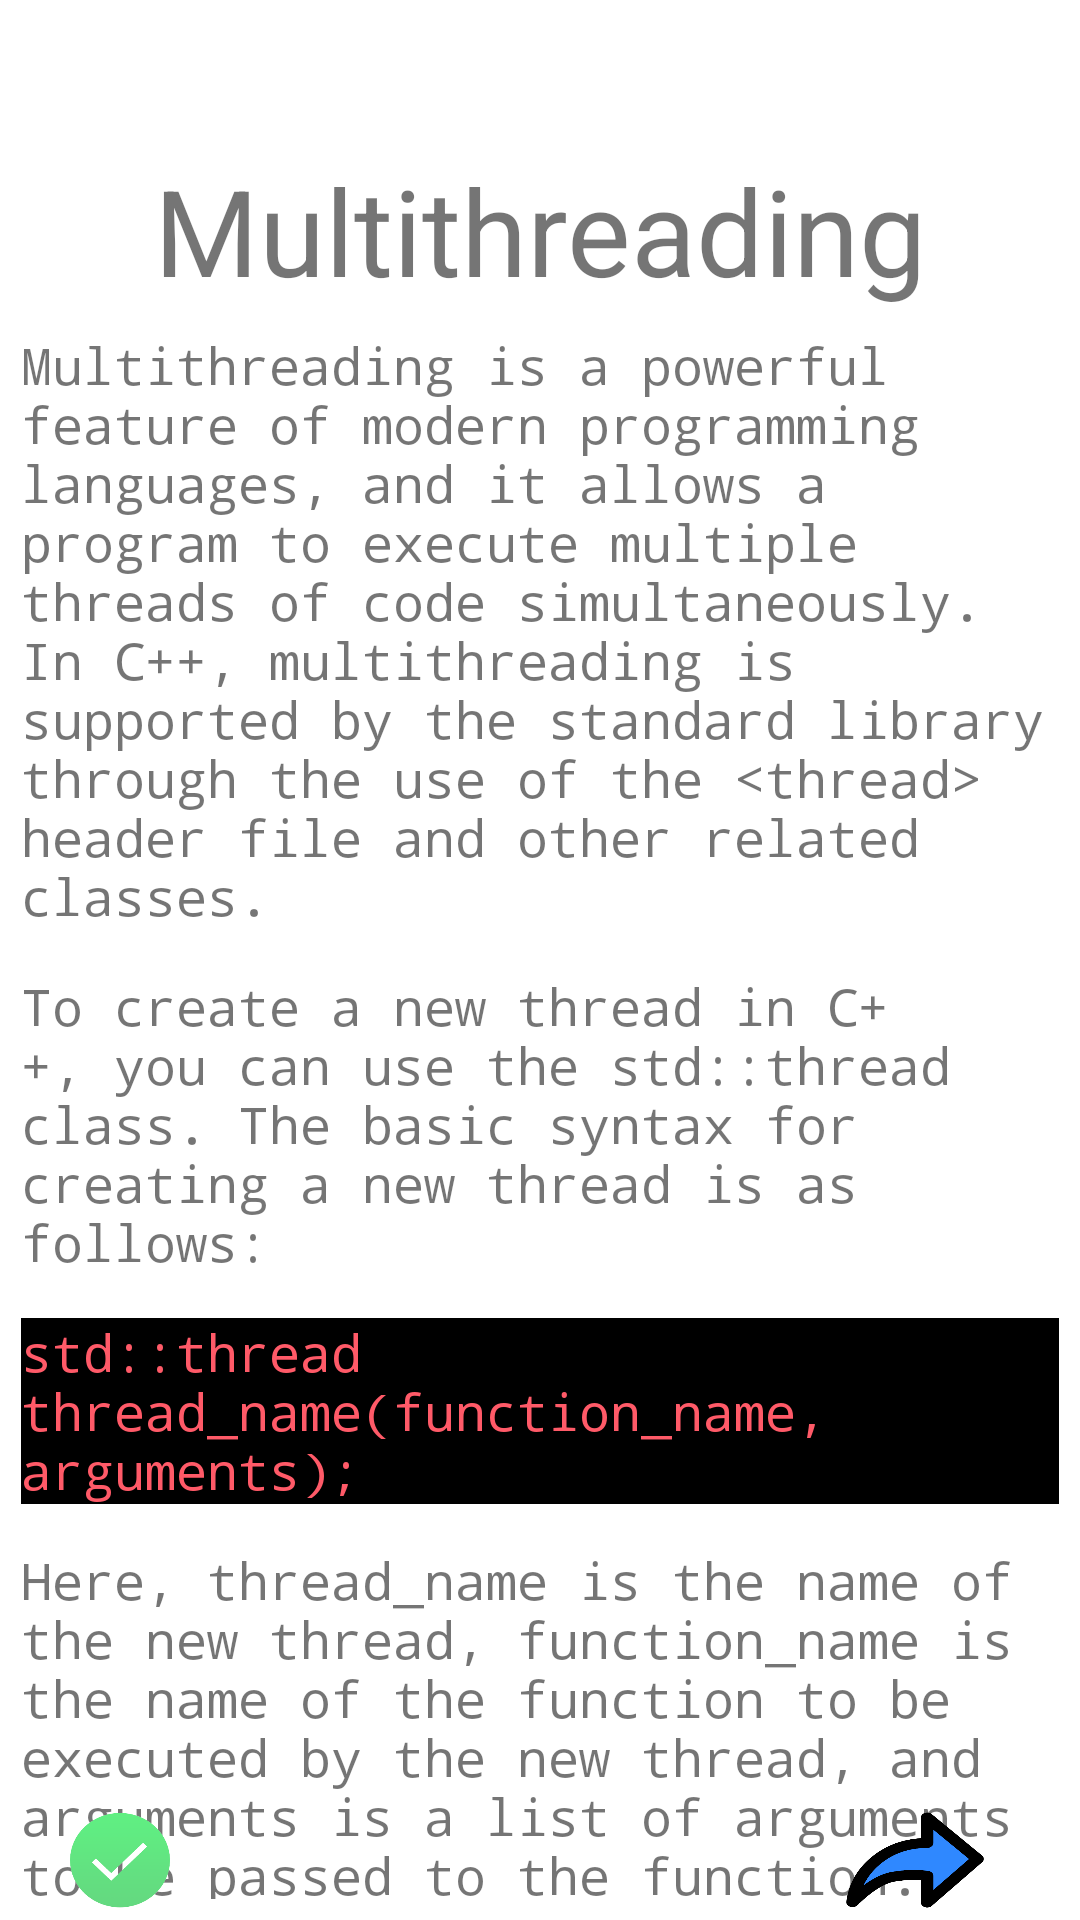

Icon click points for this 1080x1920 phone screenshot, format [x,y]:
next: [915,1854]
